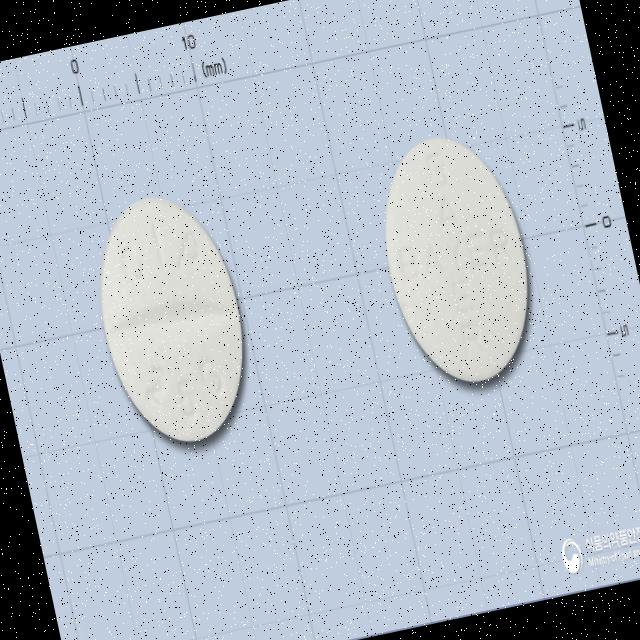Ciprobay: (357, 118, 557, 408), (73, 178, 274, 462)
